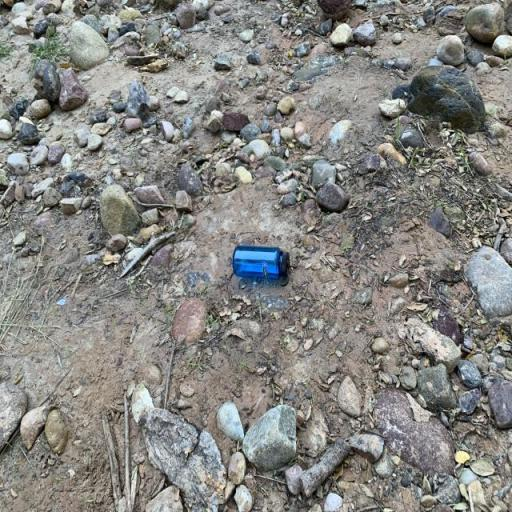bottle: (232, 245, 290, 287)
